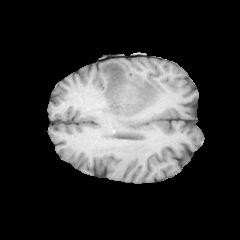glioma: (99, 60, 160, 118)
